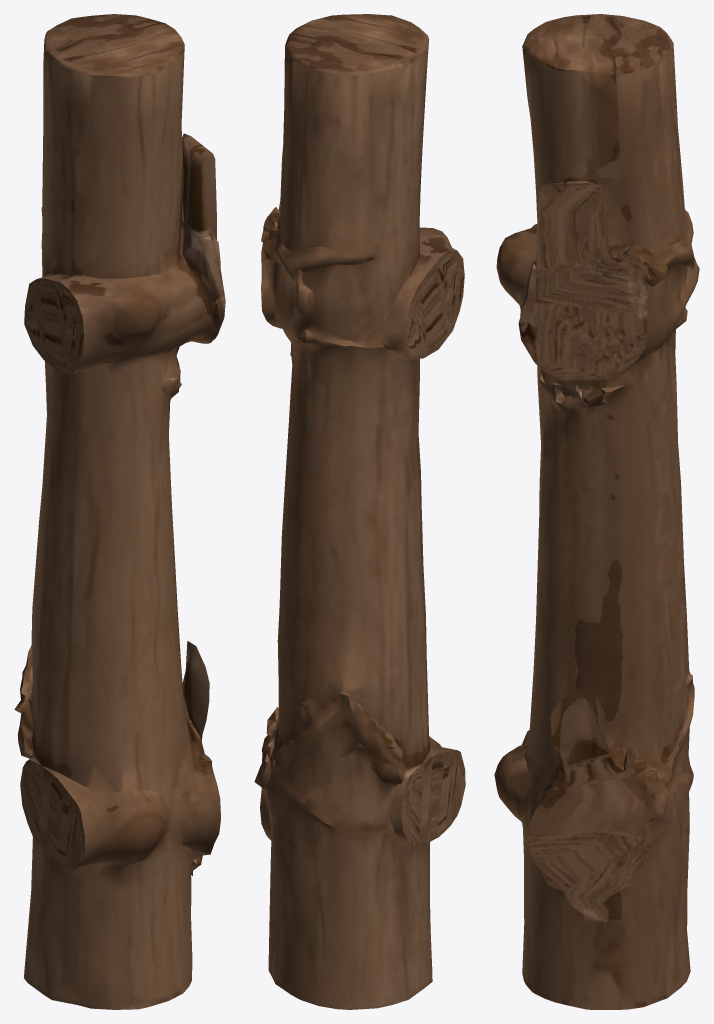
File: FenceStickPost.glb
3 renders of one model, left to right at view 1: azimuth 30°, elevation 25°; view 2: azimuth 150°, elevation 25°; view 3: azimuth 270°, elevation 25°, orthographic.
Visible parts, largest first — view 1: FenceStickPost; view 2: FenceStickPost; view 3: FenceStickPost.
Boxes of the visible parts, left/top/right/bottom form: FenceStickPost: left=14, top=14, right=225, bottom=1009; FenceStickPost: left=254, top=14, right=465, bottom=1009; FenceStickPost: left=494, top=14, right=699, bottom=1009.
Bounding box in the file's own units: 0.2132 × 1.36 × 0.2697.
1 material, 1 textured.
